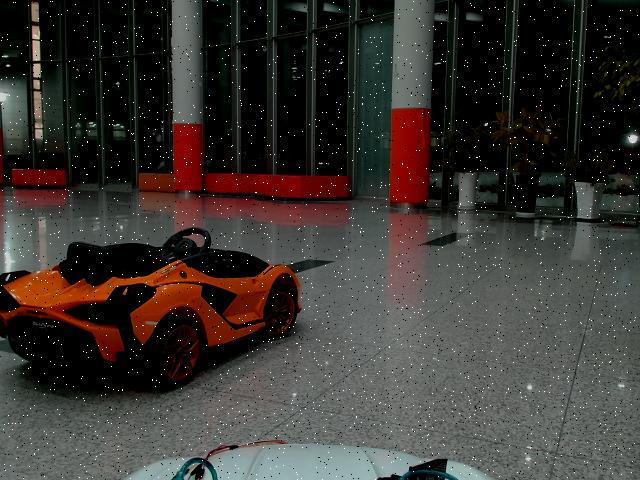car: (1, 227, 301, 392)
